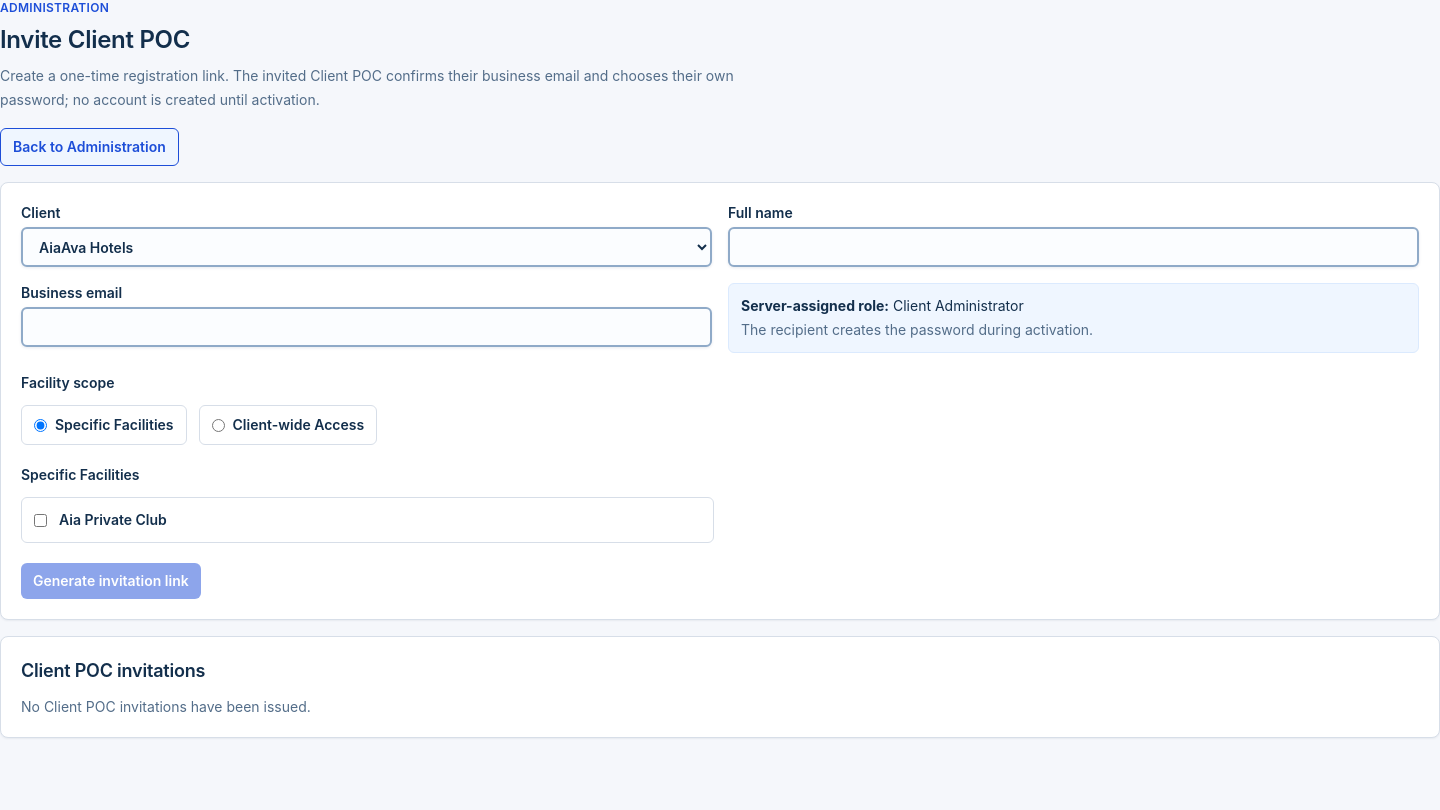
Test: OGI Client POC invitation UI › shows and copies the one-time activation link
Expected: the text "Aia Private Club" is shown, [59,510,167,530]
In the field labelled "Full name": x=1074, y=247 [728,227,1419,267], type "Client Contact"
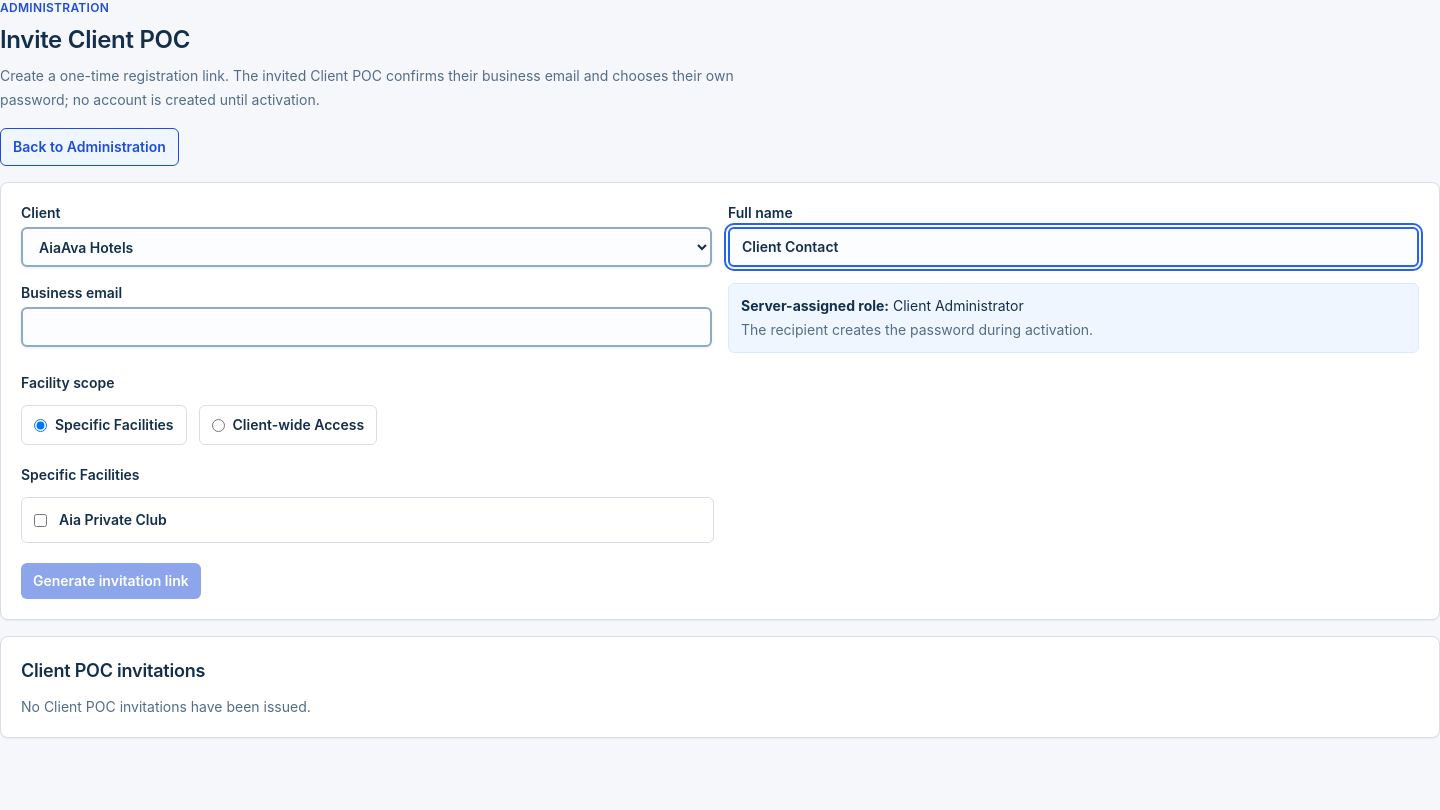
In the field labelled "Business email": x=366, y=327 [21,307,712,347], type "contact@example.test"
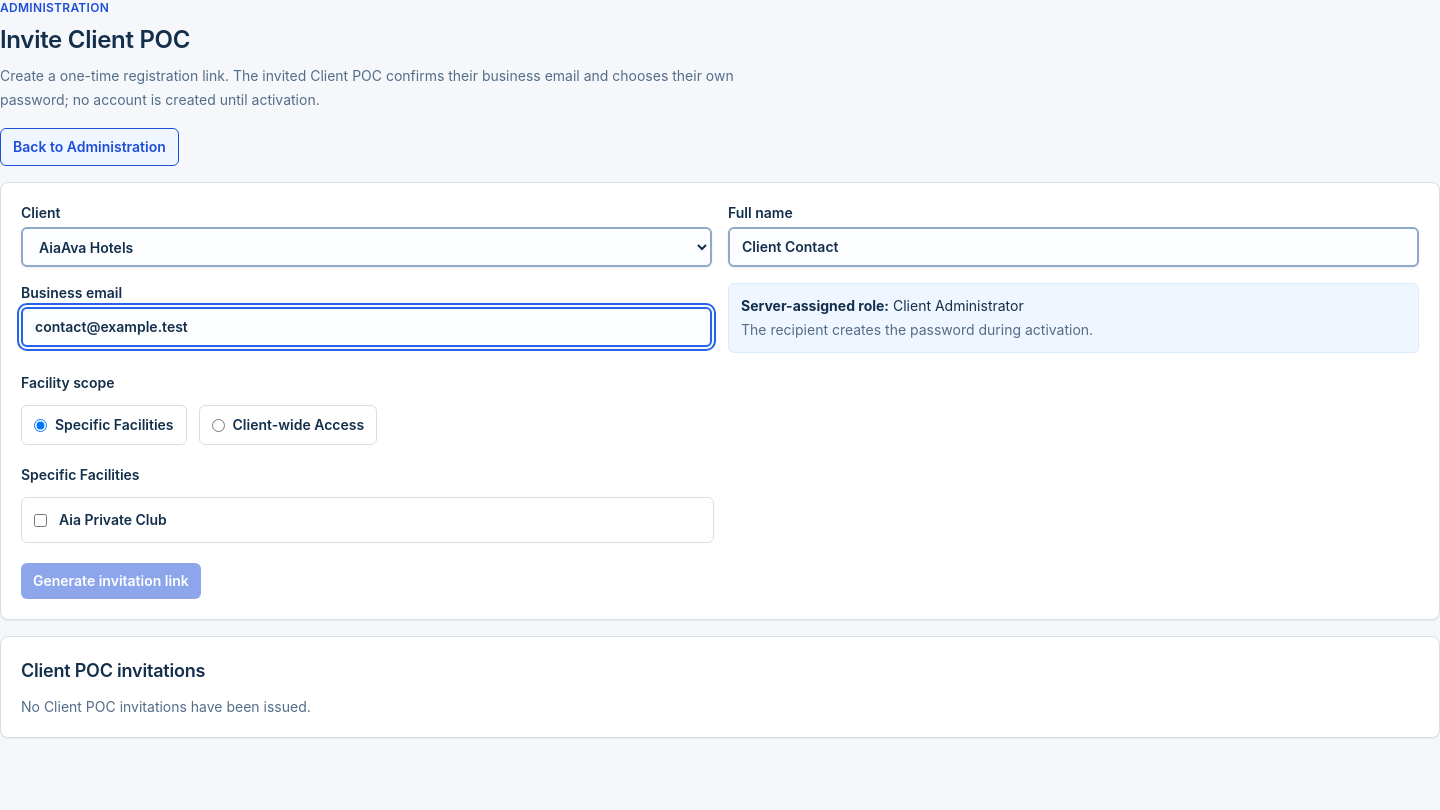
Click the checkbox labelled "Aia Private Club": x=40, y=520 [34,514,47,526]
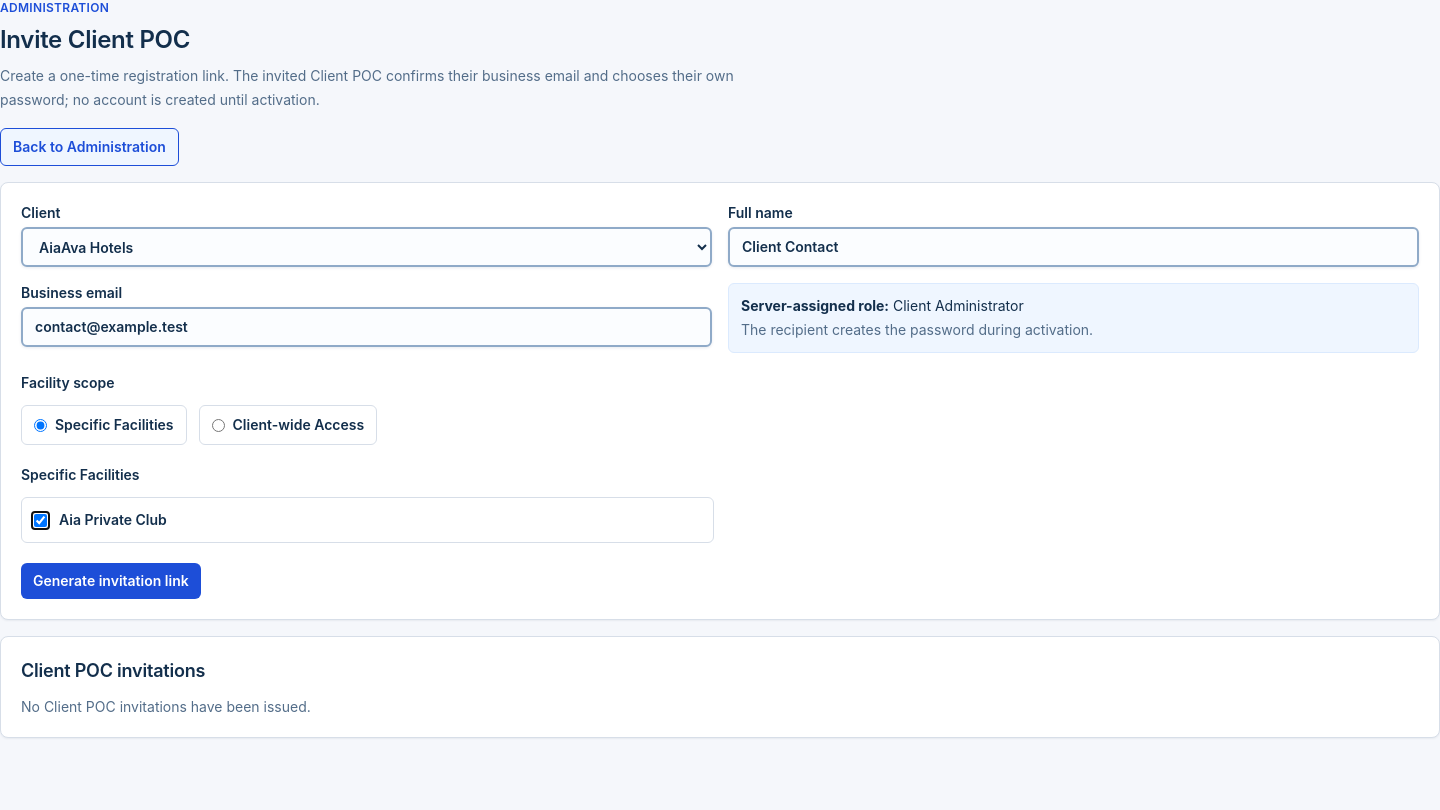
Click the button "Generate invitation link": x=111, y=581 [21,563,201,599]
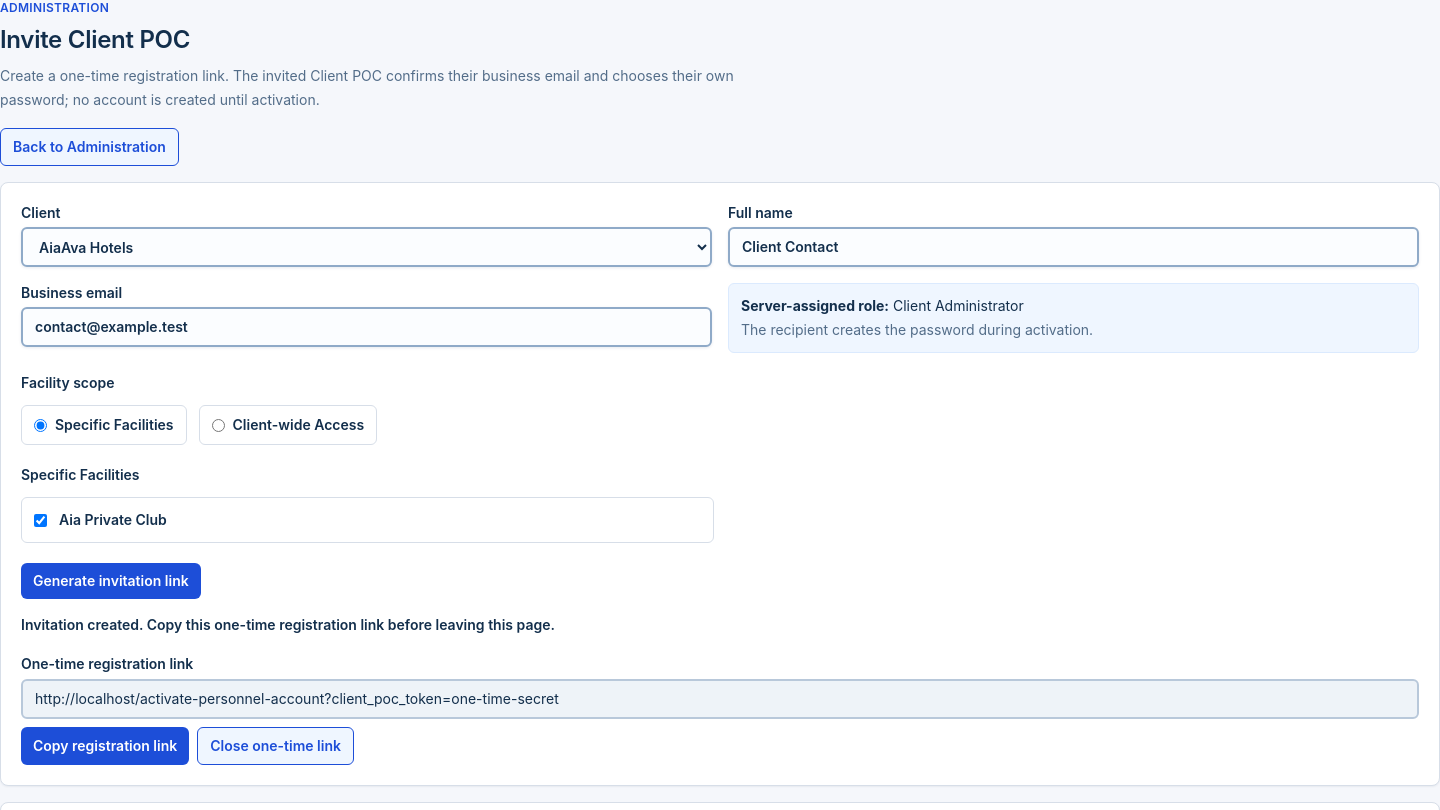
Click the button "Copy registration link": x=105, y=746 [21,727,189,765]
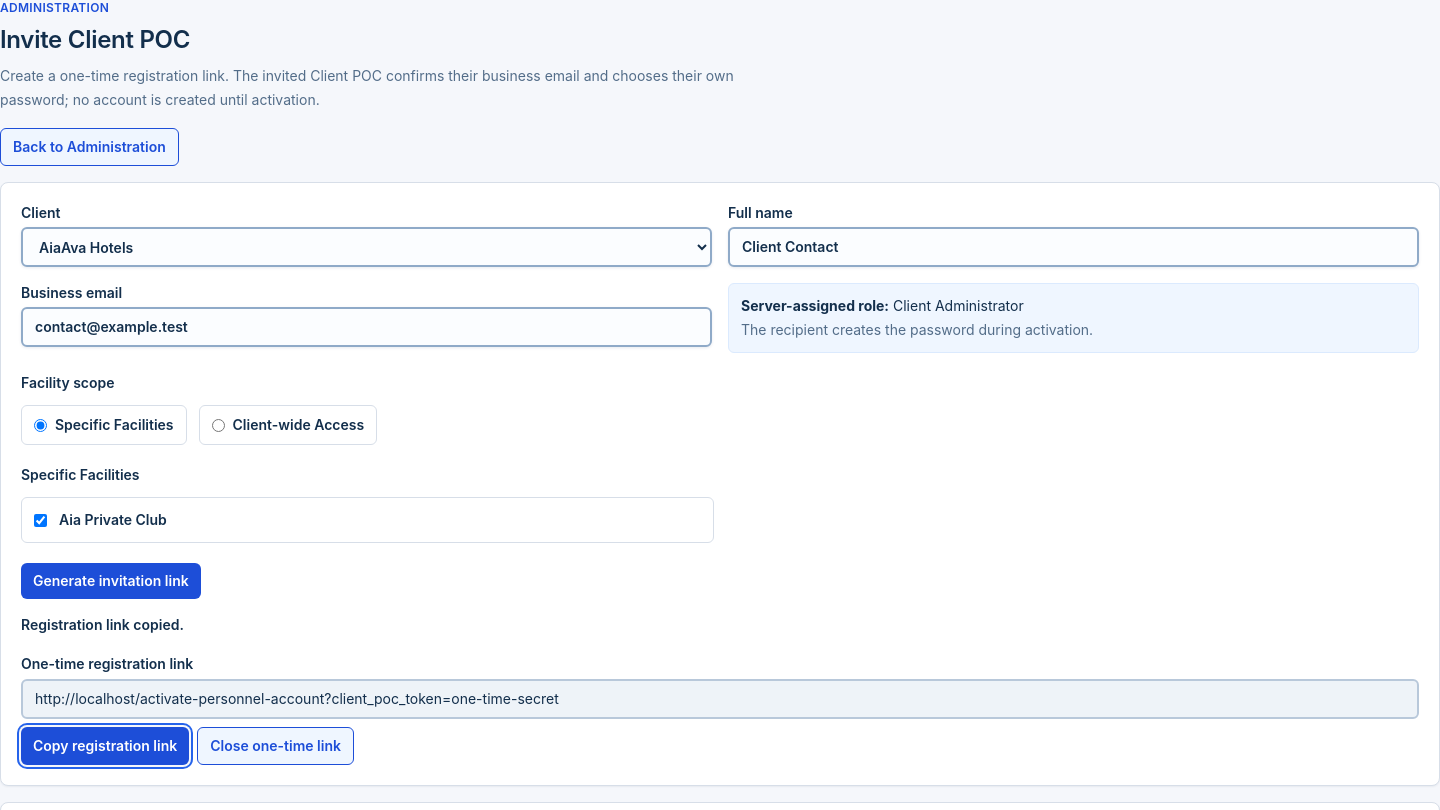
Now the text "Registration link copied." is shown, box [21,616,184,633]
